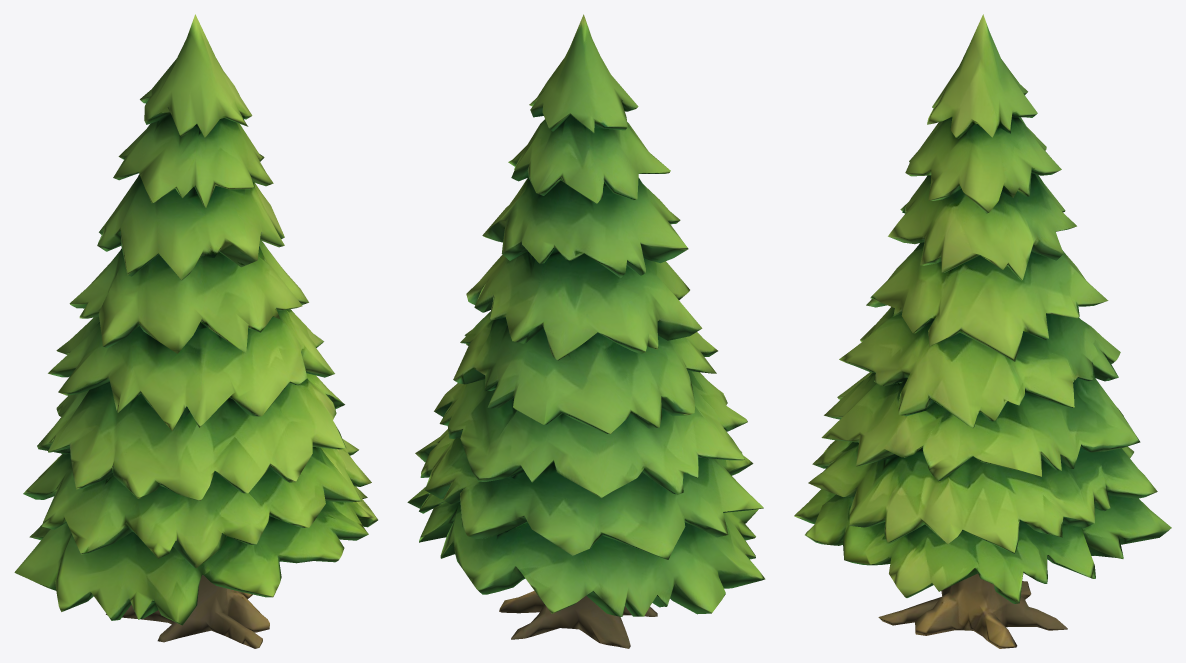
The model's file is pine_tree.fbx.
The picture shows the model from 3 angles, left to right: view 1: azimuth 30°, elevation 25°; view 2: azimuth 150°, elevation 25°; view 3: azimuth 270°, elevation 25°; orthographic projection.
Parts seen in each view (by area): view 1: tripo_node_b36fb40e; view 2: tripo_node_b36fb40e; view 3: tripo_node_b36fb40e.
Part boxes in pixels (left/top/right/bottom): tripo_node_b36fb40e: left=14, top=14, right=377, bottom=648; tripo_node_b36fb40e: left=407, top=14, right=765, bottom=648; tripo_node_b36fb40e: left=794, top=14, right=1171, bottom=648.
Size of the model in its own units: 54 by 98.35 by 56.03.
Materials: 1 (1 with a texture image).
